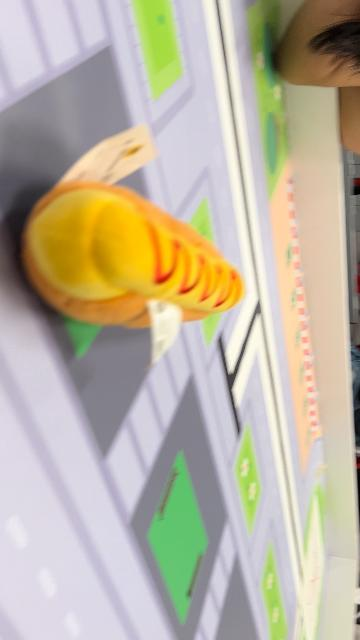hotdog: (25, 184, 245, 326)
